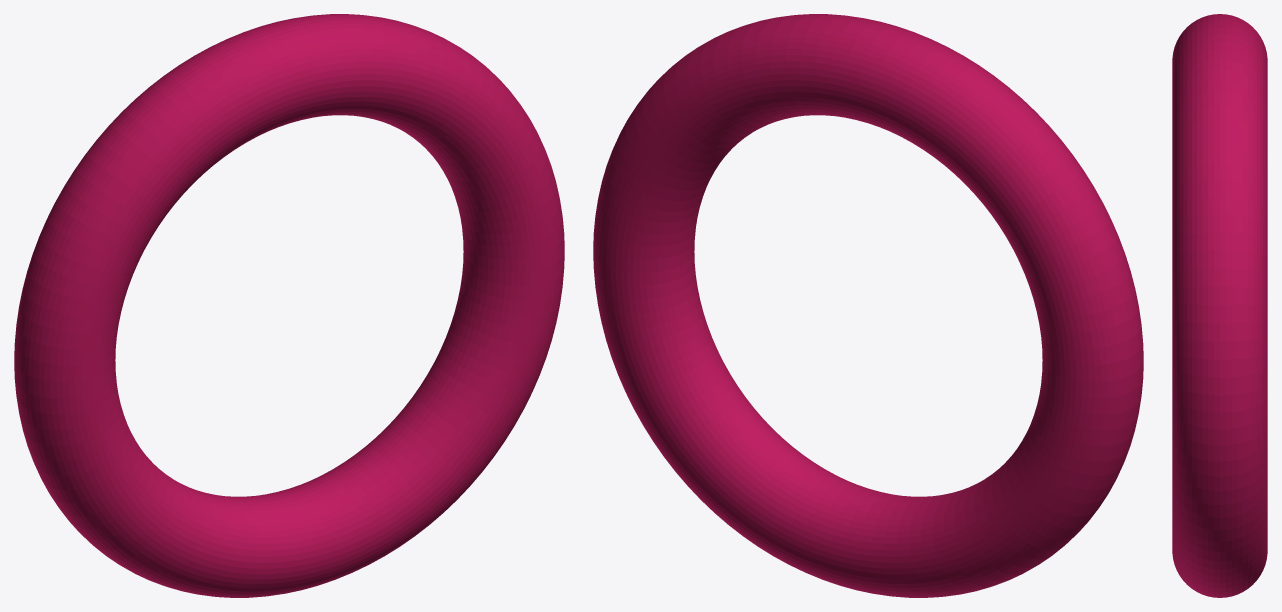
3 renders of one model, left to right at view 1: azimuth 30°, elevation 25°; view 2: azimuth 150°, elevation 25°; view 3: azimuth 270°, elevation 25°, orthographic. The views are drawn at different scales.
Visible parts, largest first — view 1: world; view 2: world; view 3: world.
Boxes of the visible parts, left/top/right/bottom form: world: left=14, top=14, right=564, bottom=597; world: left=593, top=14, right=1143, bottom=597; world: left=1172, top=14, right=1267, bottom=597.
Bounding box in the file's own units: 33.47 × 33.47 × 5.46.
